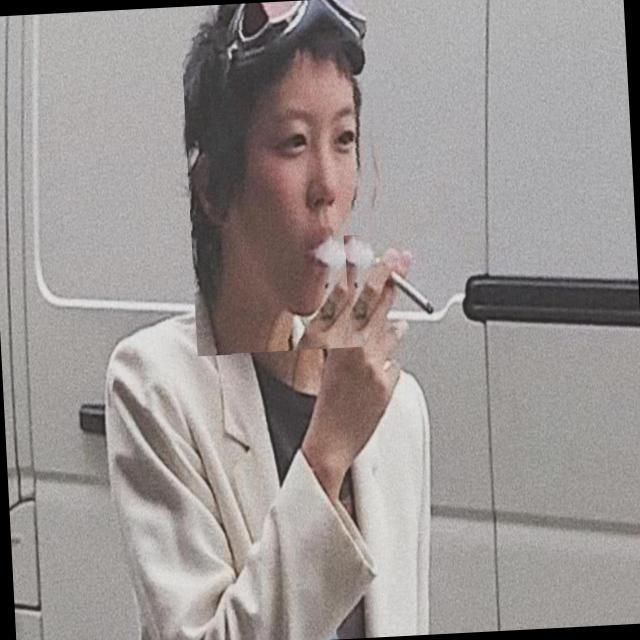cigarette: (343, 230, 449, 334)
